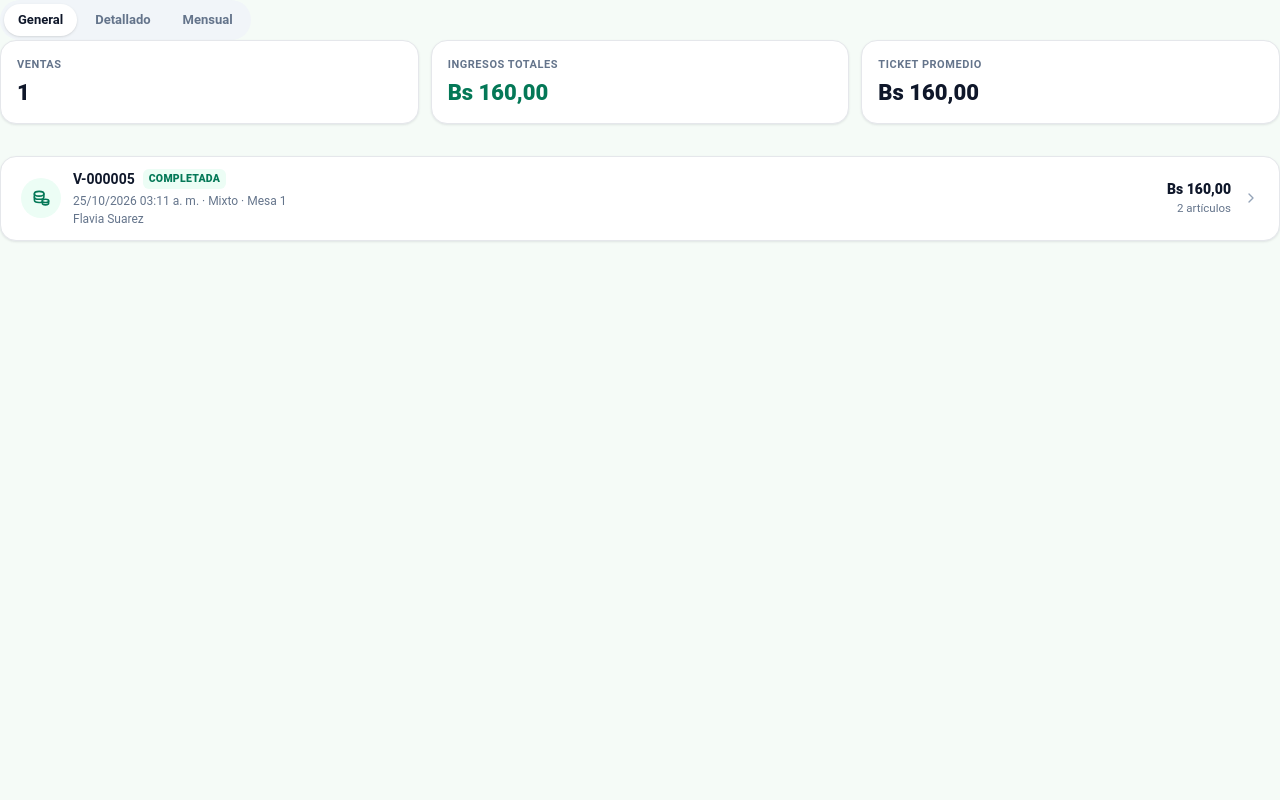
Test: Reportes › Ventas en el restaurante (REP-02, 28-oct) › tocar una venta abre su recibo: qué se vendió y a qué precio, el mixto con cada monto, lo recibido y el cambio
Click the button "V-000005" at (41, 198), box 1,156 -> 1279,240
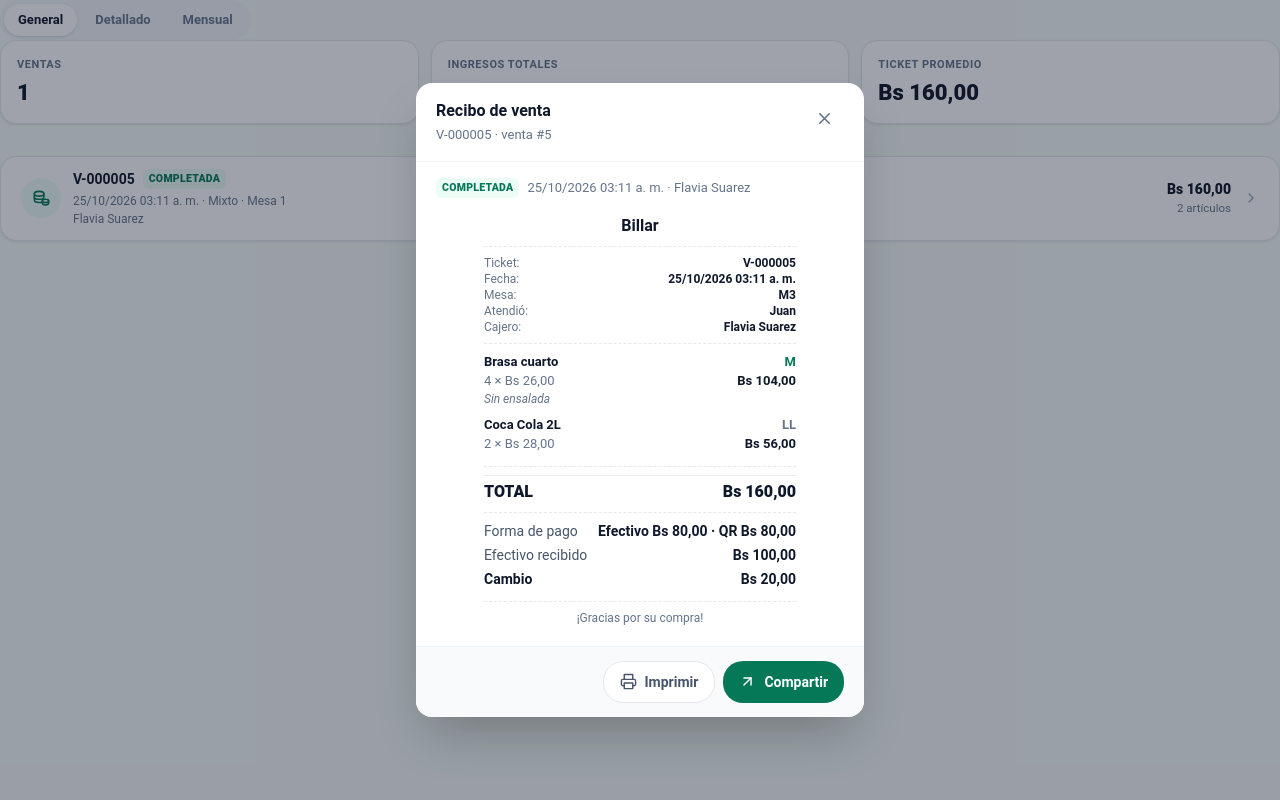
Result: the text "Brasa cuarto" is shown at 484,354 -> 558,369
Result: the text "Sin ensalada" is shown at 484,392 -> 550,406
Result: the text "M" is shown at 785,352 -> 796,371
